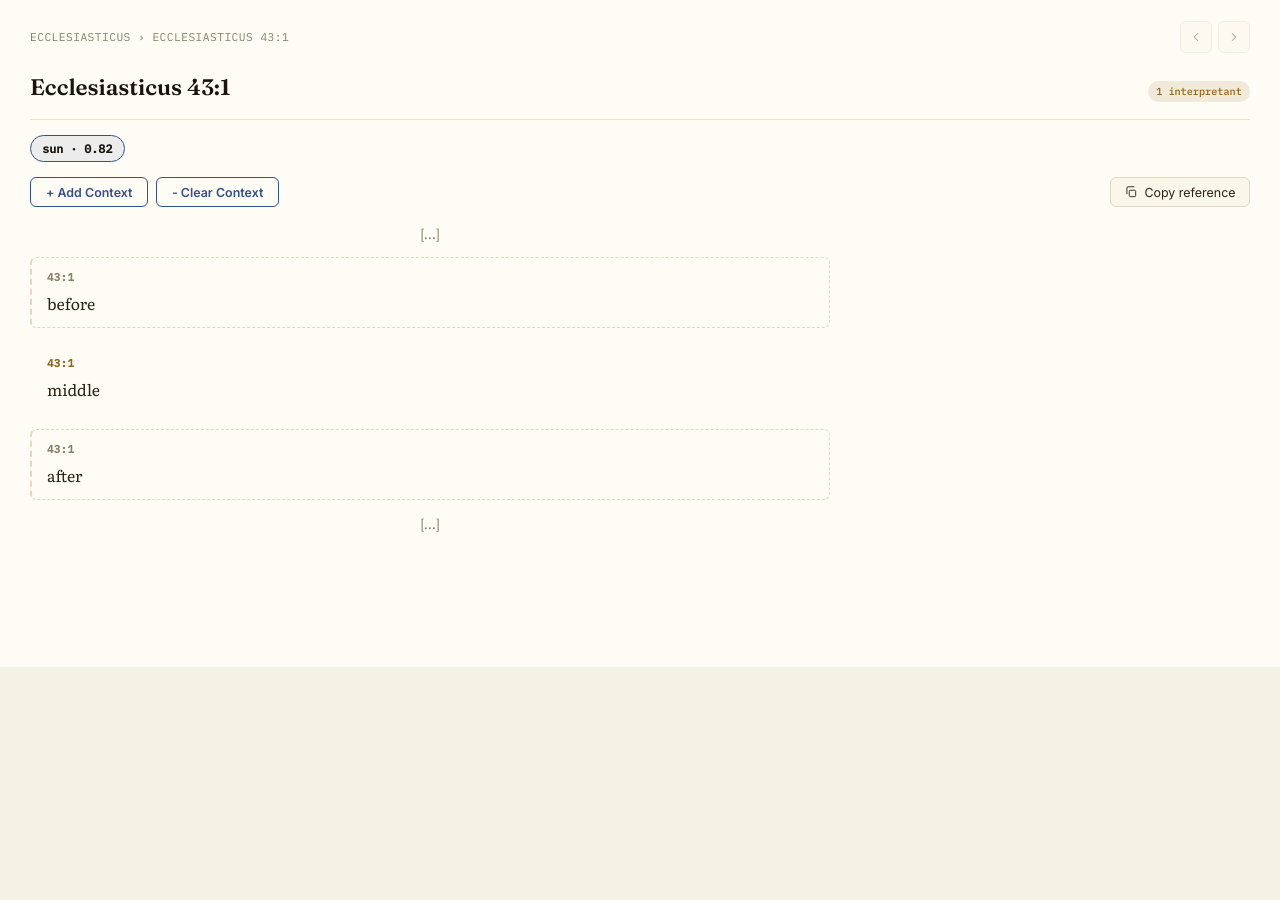
Scenario: Add Context › "Clear Context" resets to the hotspot's own segments and reports the clear to the parent
Check: the text "before" is shown, box [47,291,95,315]
Click the button "- Clear Context" at coordinates (218, 192), box [156,177,279,208]
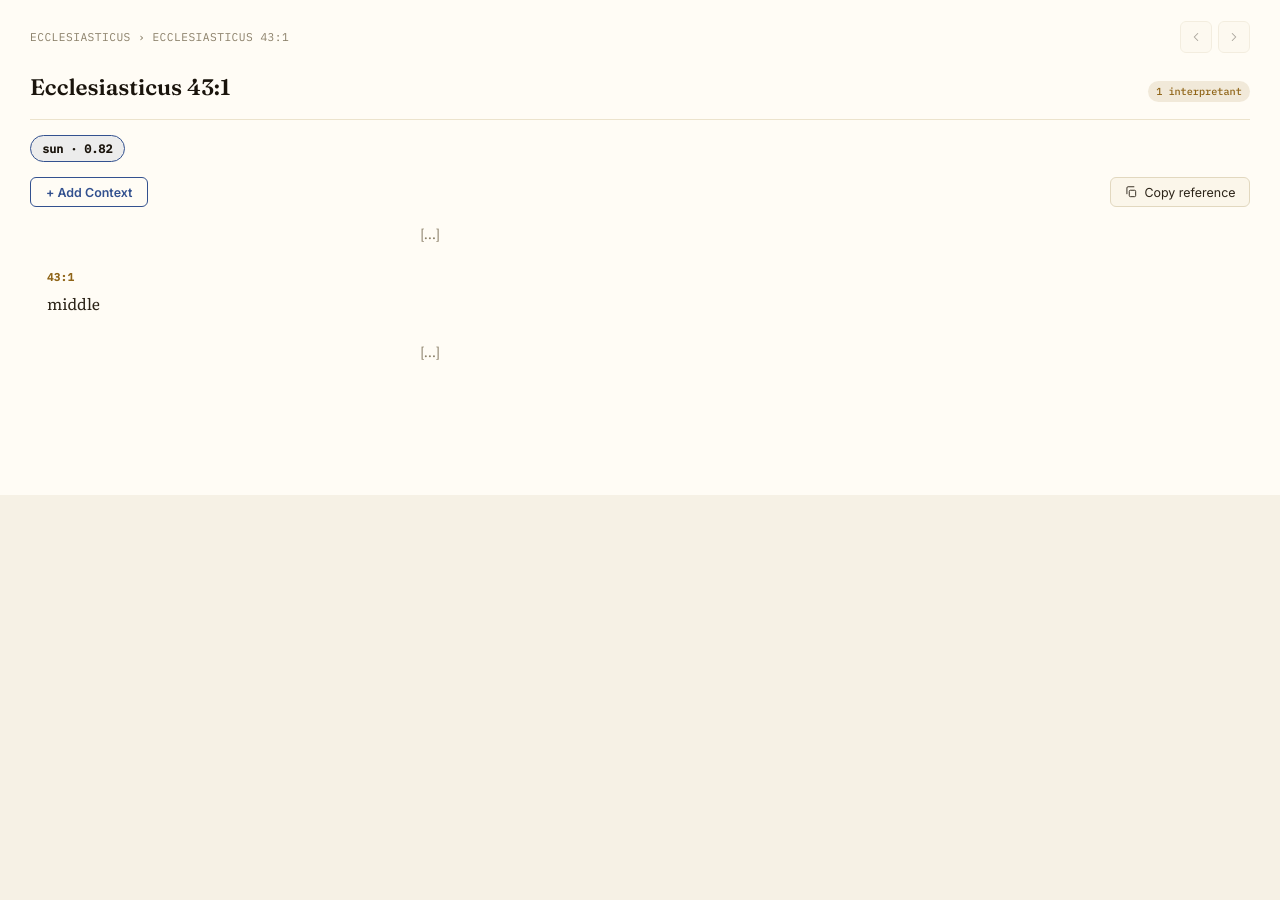
Check: the text "before" is gone
Check: the text "after" is gone
Check: the button "- Clear Context" is gone
